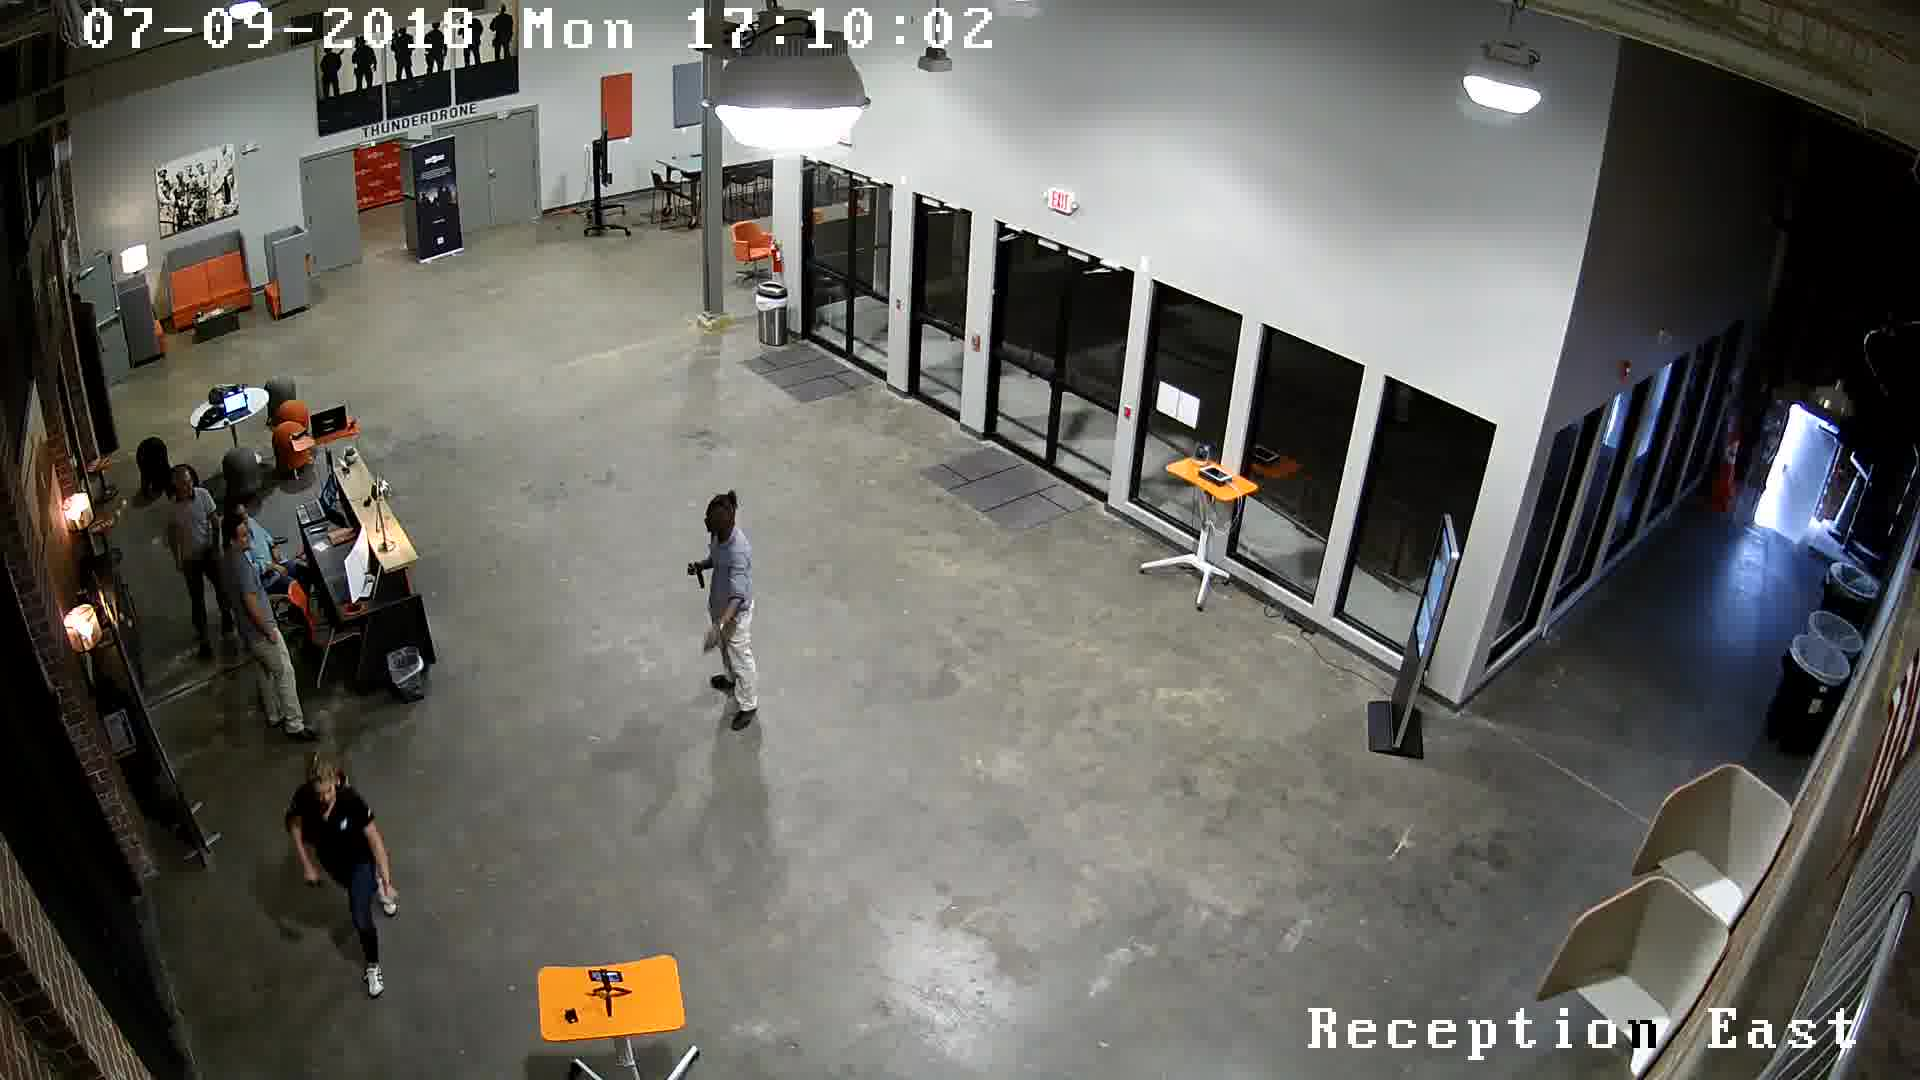pistol: (667, 553, 713, 603)
